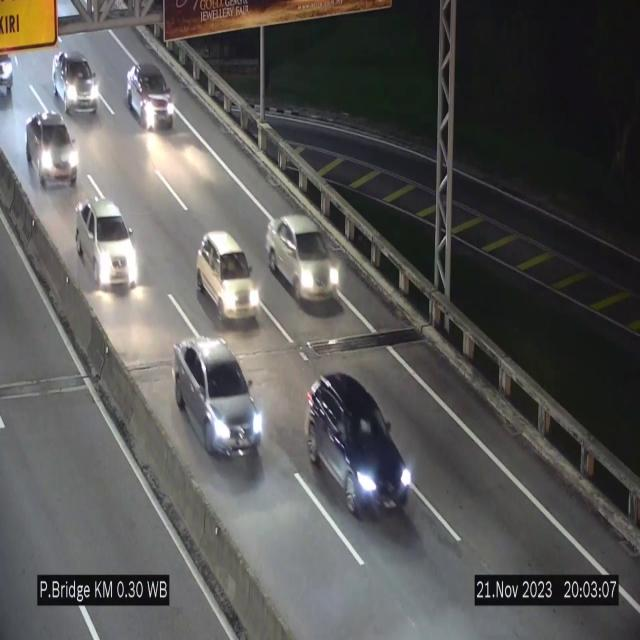Car: (307, 374, 413, 516), (174, 337, 264, 456), (264, 216, 342, 306), (75, 198, 138, 288), (197, 231, 256, 325), (26, 111, 80, 190), (49, 44, 103, 118), (126, 62, 174, 128)
